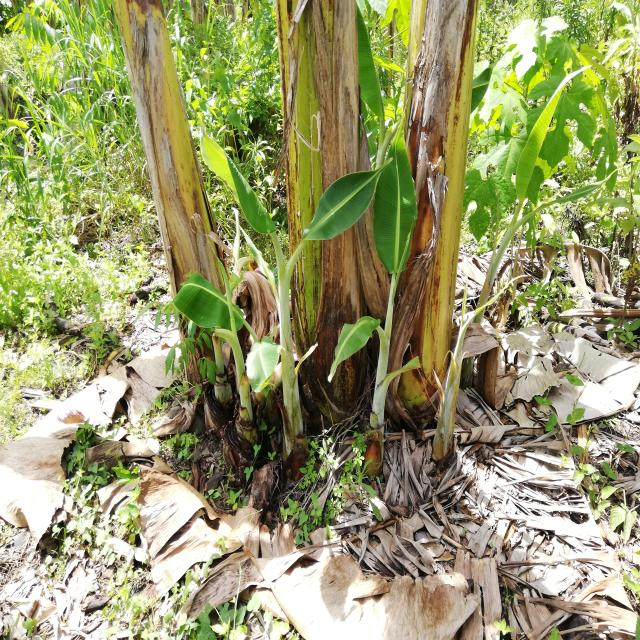Banana-plant: (110, 0, 236, 419), (379, 0, 475, 443), (274, 0, 369, 424)
